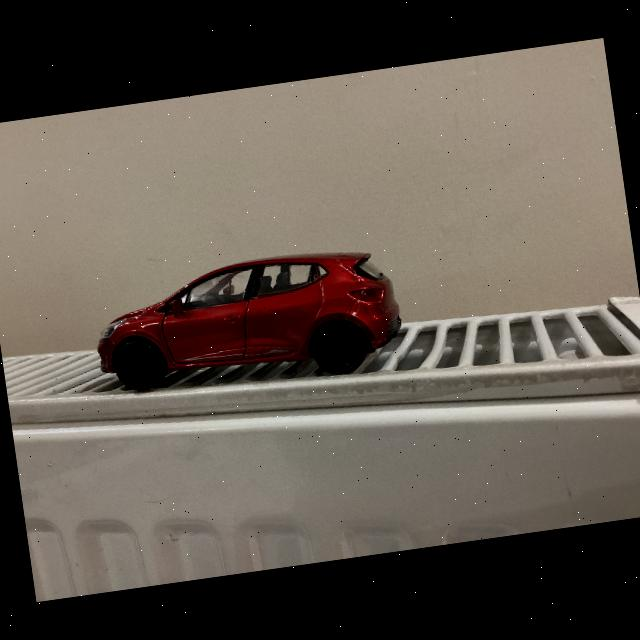Dogru_Jant: (114, 342, 160, 390), (315, 324, 361, 370)
